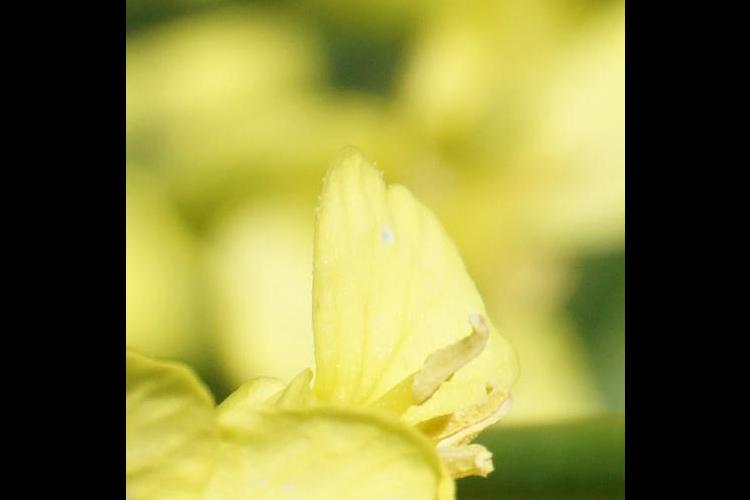yellow: (127, 144, 624, 500)
